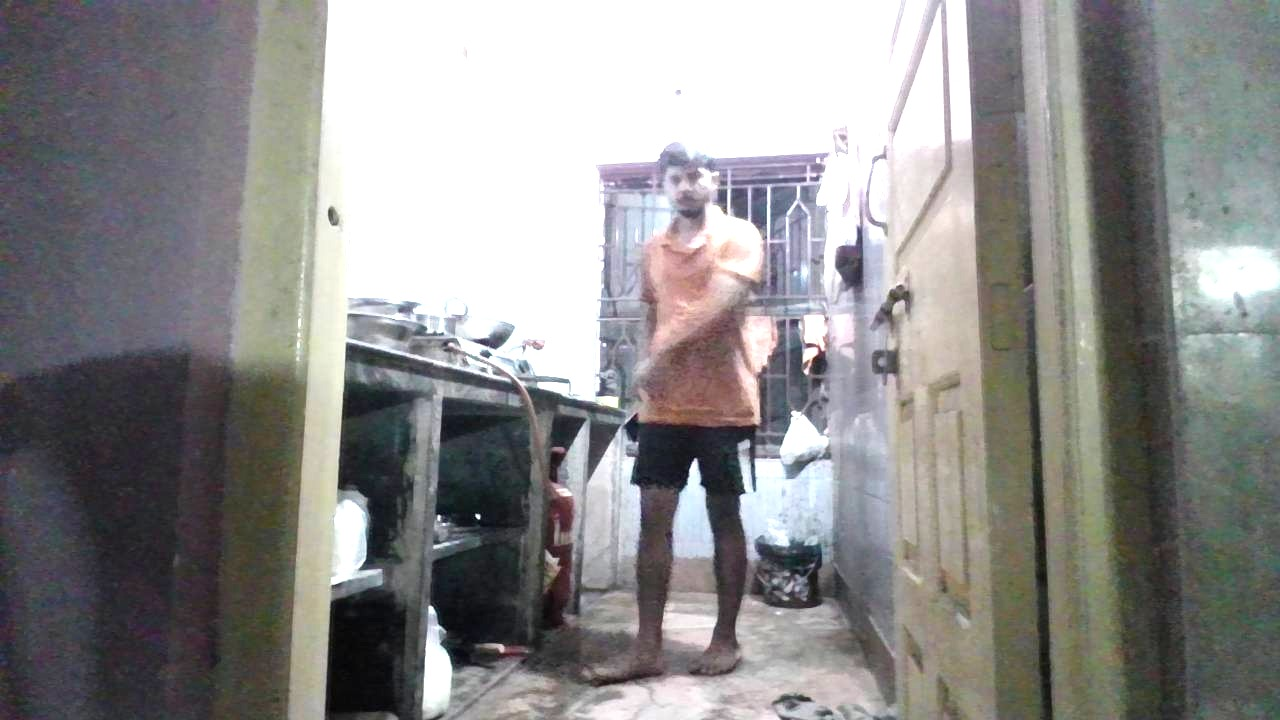red_box: (651, 394, 719, 425)
